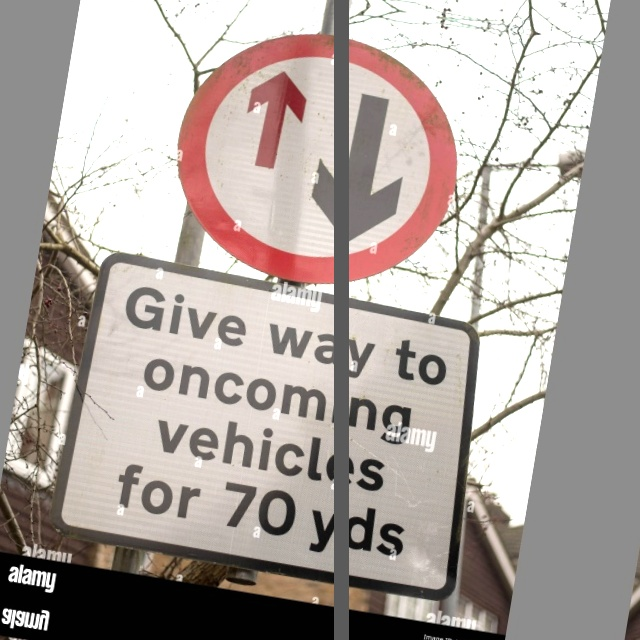Priority_for_Oncoming_Traffic: (160, 12, 478, 302)
